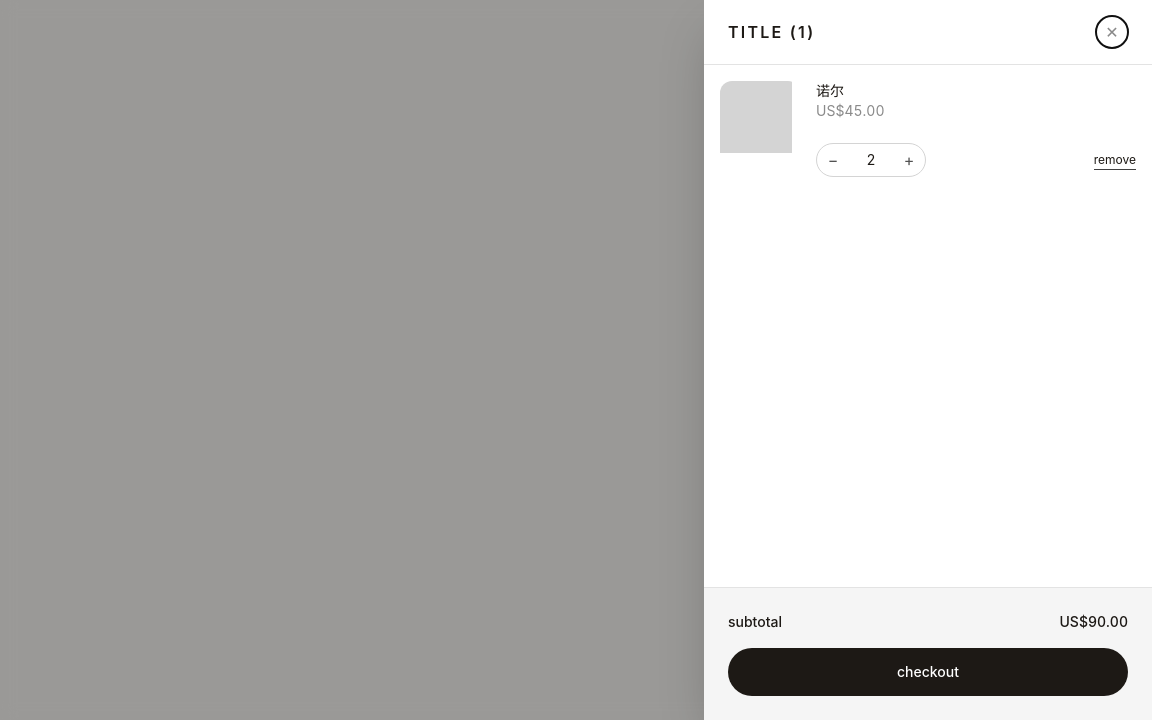
Test: CartDrawer · Checkout 直达 Shopify(不再先进 /checkout) › 失败(网络错误)时回退跳转 /checkout,并显示可见提示 —— 不静默、不卡住
Click the button "checkout": x=928, y=672 [728, 648, 1128, 696]
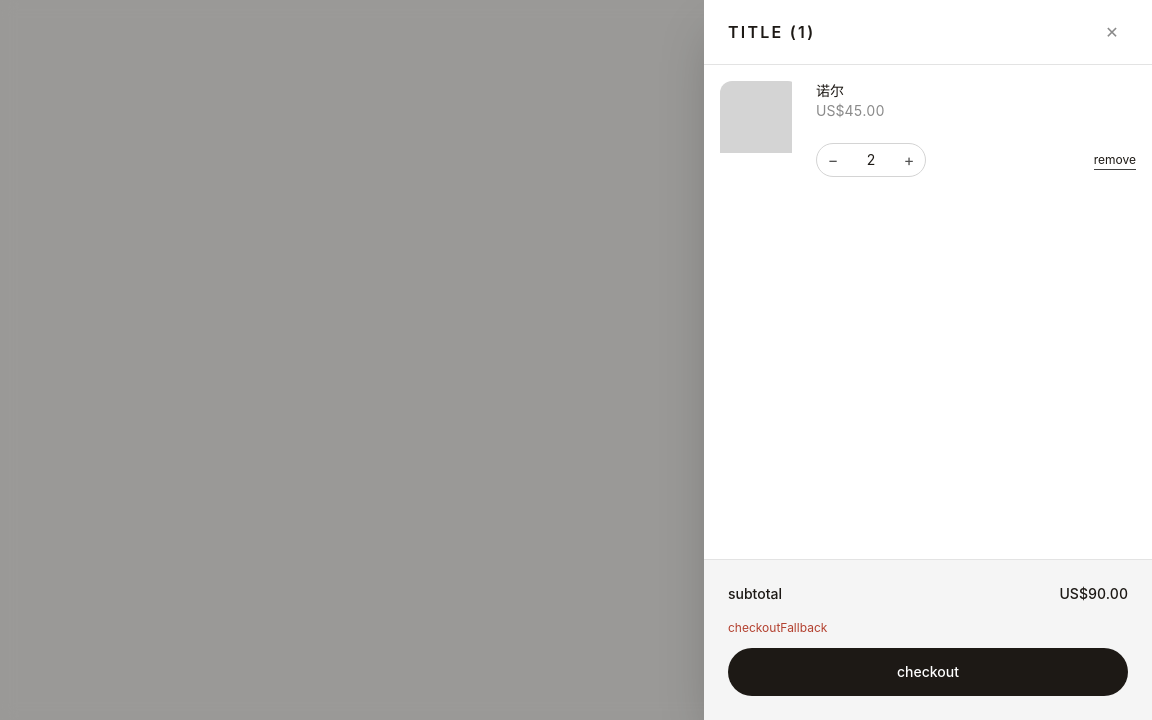
Expected: the message reads "checkoutFallback", [728, 620, 827, 635]
